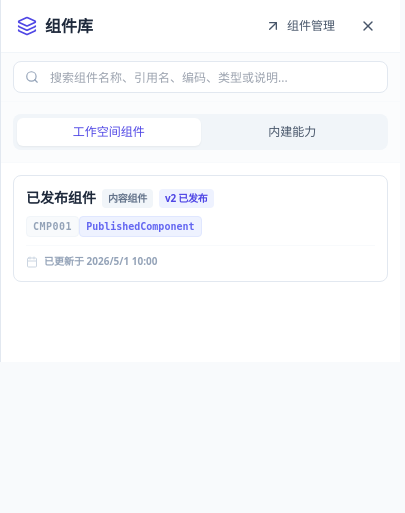
Scenario: ComponentManagerPanel › Runtime Kit 侧栏只展示组件能力，不展示 doc-only 工具能力
Check: the text "内建能力" is shown, box top-left (268, 124), bottom-right (316, 140)
Click the radio button "内建能力". click: [292, 132]
box: top-left (200, 118), bottom-right (384, 146)
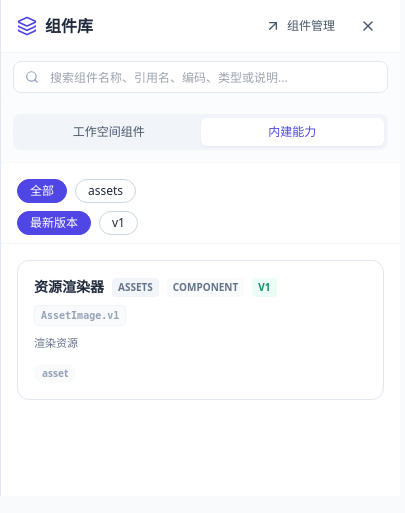
Check: the heading "资源渲染器" is shown, box top-left (34, 277), bottom-right (104, 297)
